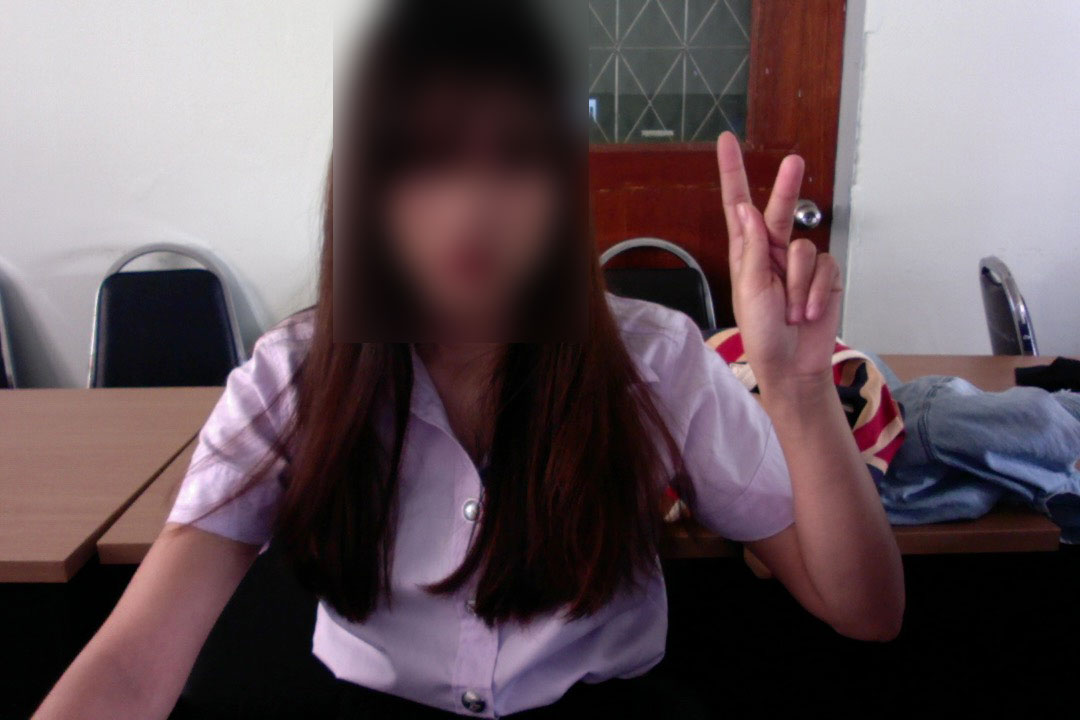ko: (688, 116, 874, 417)
